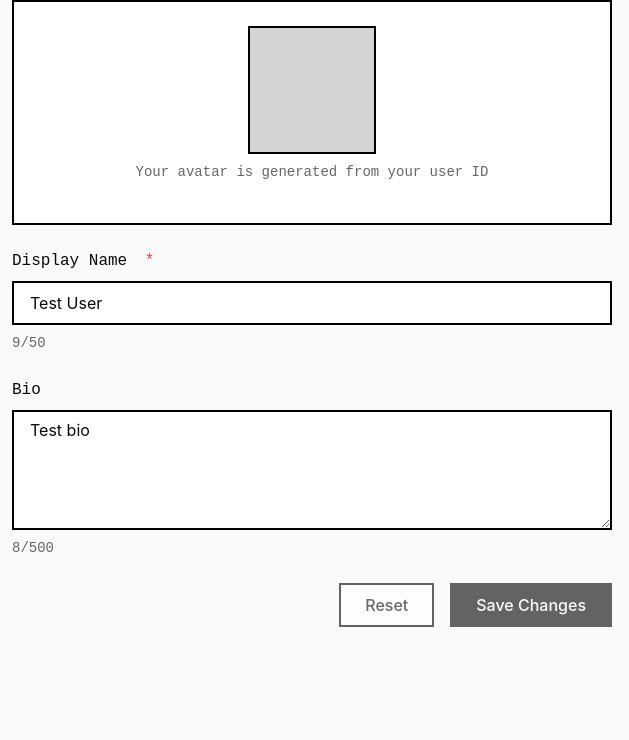
Test: ProfileForm › Form Submission › shows success message on successful update
Replace the text in the field with id "display-name" with "Updated Name": (312,303) [12, 281, 612, 325]
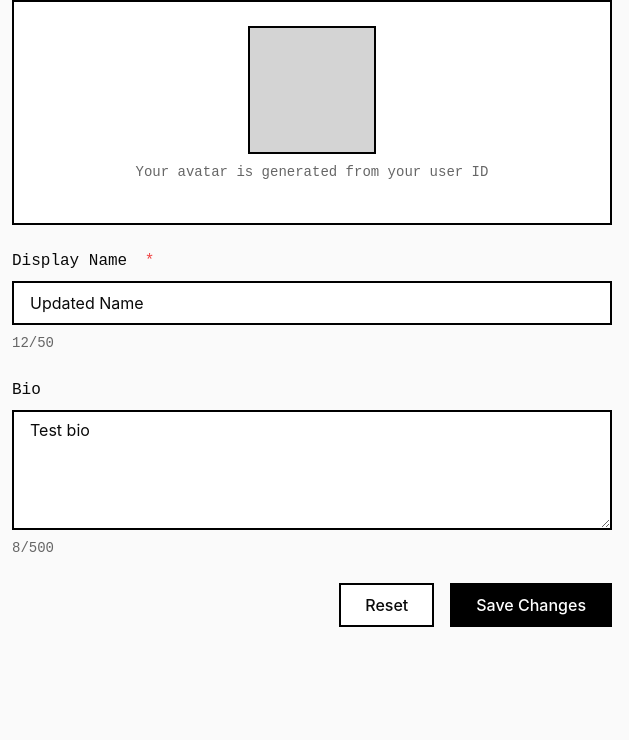
Submit the form
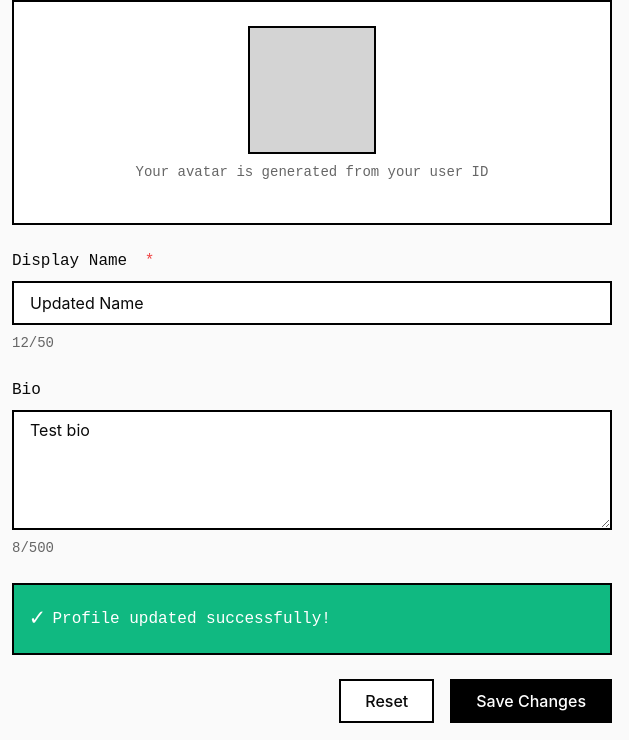
Now the message "✓ Profile updated successfully!" is shown, box [12, 583, 612, 655]
Now the message with class "success-message" shows "successfully", box [52, 610, 331, 628]
